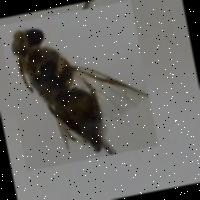Oriental-fruit-fly: (0, 0, 159, 171)
